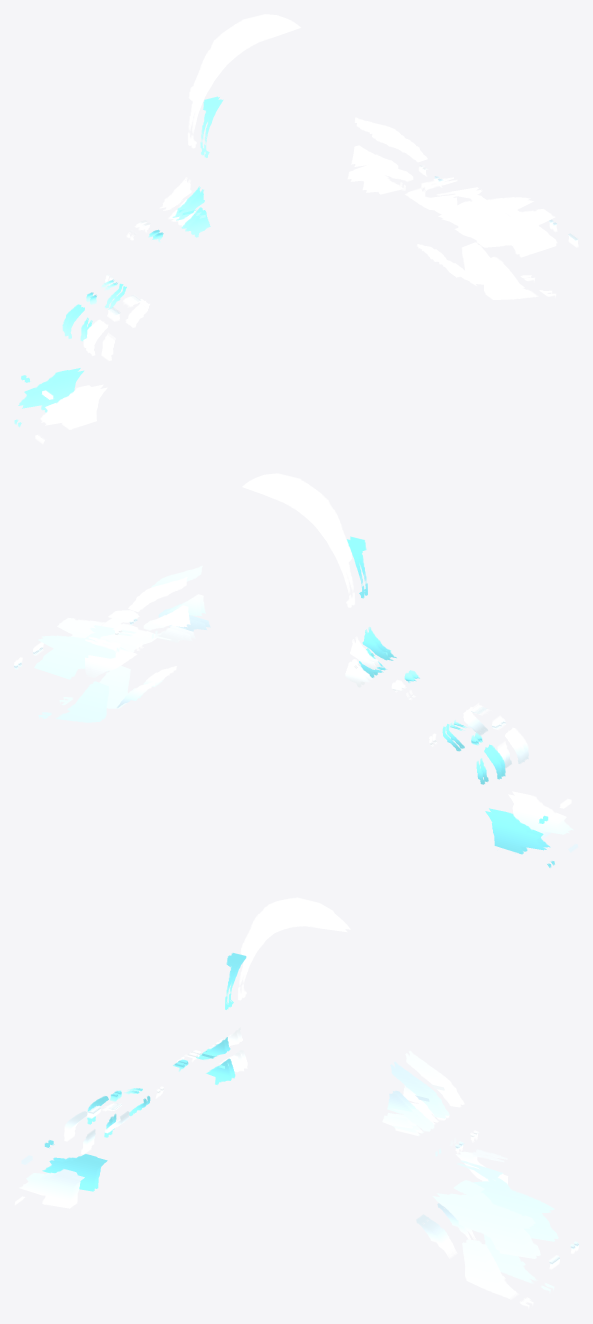
File: yuna_curve_bundle_hair_v1_repair_attempt_06.glb
The picture shows the model from 3 angles, top to bottom: view 1: azimuth 30°, elevation 25°; view 2: azimuth 150°, elevation 25°; view 3: azimuth 330°, elevation 25°; orthographic projection.
Visible parts, largest first — view 1: back_hair_mass_repair_06_01_01, bangs_primary_repair_06_01_01, side_hair_right_primary_repair_06_01_01, back_hair_mass_repair_06_02_01, side_hair_left_primary_repair_06_01_01, side_hair_right_primary_repair_06_03_01, bangs_primary_repair_06_02_01, side_hair_right_primary_repair_06_02_01, back_hair_mass_repair_06_01_03, bangs_primary_repair_06_03_01, back_hair_mass_repair_06_01_02, side_hair_right_primary_repair_06_01_02; view 2: side_hair_right_primary_repair_06_01_02, bangs_primary_repair_06_01_02, back_hair_mass_repair_06_01_04, side_hair_left_primary_repair_06_01_02, bangs_primary_repair_06_01_01, back_hair_mass_repair_06_02_04, bangs_primary_repair_06_04_02, bangs_primary_repair_06_02_02, bangs_primary_repair_06_03_02, side_hair_right_primary_repair_06_01_01, back_hair_mass_repair_06_01_01, back_hair_mass_repair_06_01_02 (+1 smaller); view 3: back_hair_mass_repair_06_01_01, bangs_primary_repair_06_01_01, side_hair_right_primary_repair_06_01_01, back_hair_mass_repair_06_02_01, side_hair_right_primary_repair_06_03_01, side_hair_left_primary_repair_06_01_01, bangs_primary_repair_06_04_01, back_hair_mass_repair_06_01_03, side_hair_right_primary_repair_06_02_01, back_hair_mass_repair_06_01_02, back_hair_mass_repair_06_01_04, side_hair_right_primary_repair_06_01_02 (+1 smaller).
Part boxes in pixels (x1,y1,x2,y2): back_hair_mass_repair_06_01_01: (454, 204, 557, 299); bangs_primary_repair_06_01_01: (188, 15, 300, 148); side_hair_right_primary_repair_06_01_01: (416, 188, 534, 284); back_hair_mass_repair_06_02_01: (38, 384, 107, 444); side_hair_left_primary_repair_06_01_01: (15, 368, 84, 427); side_hair_right_primary_repair_06_03_01: (370, 129, 427, 192); bangs_primary_repair_06_02_01: (401, 177, 457, 214); side_hair_right_primary_repair_06_02_01: (362, 147, 413, 194); back_hair_mass_repair_06_01_03: (463, 202, 556, 298); bangs_primary_repair_06_03_01: (347, 135, 397, 182); back_hair_mass_repair_06_01_02: (468, 203, 554, 299); side_hair_right_primary_repair_06_01_02: (415, 187, 531, 282); side_hair_right_primary_repair_06_01_02: (34, 625, 156, 722); bangs_primary_repair_06_01_02: (255, 474, 353, 607); back_hair_mass_repair_06_01_04: (57, 612, 142, 708); side_hair_left_primary_repair_06_01_02: (492, 812, 553, 867); bangs_primary_repair_06_01_01: (242, 473, 354, 607); back_hair_mass_repair_06_02_04: (512, 796, 575, 852); bangs_primary_repair_06_04_02: (128, 577, 186, 640); bangs_primary_repair_06_02_02: (86, 639, 142, 677); bangs_primary_repair_06_03_02: (149, 600, 187, 642); side_hair_right_primary_repair_06_01_01: (38, 625, 157, 720); back_hair_mass_repair_06_01_01: (59, 610, 157, 706); back_hair_mass_repair_06_01_02: (62, 610, 148, 707); back_hair_mass_repair_06_01_01: (432, 1182, 536, 1308); bangs_primary_repair_06_01_01: (238, 898, 350, 1000); side_hair_right_primary_repair_06_01_01: (435, 1149, 557, 1293); back_hair_mass_repair_06_02_01: (14, 1157, 84, 1208); side_hair_right_primary_repair_06_03_01: (390, 1062, 448, 1135); side_hair_left_primary_repair_06_01_01: (42, 1140, 107, 1191); bangs_primary_repair_06_04_01: (405, 1051, 463, 1124); back_hair_mass_repair_06_01_03: (445, 1181, 539, 1303); side_hair_right_primary_repair_06_02_01: (382, 1091, 429, 1135); back_hair_mass_repair_06_01_02: (446, 1181, 537, 1298); back_hair_mass_repair_06_01_04: (446, 1180, 540, 1303); side_hair_right_primary_repair_06_01_02: (436, 1148, 558, 1282).
Bounding box in the file's own units: 3.1 × 1.85 × 0.417.
5 materials, 4 textured.
